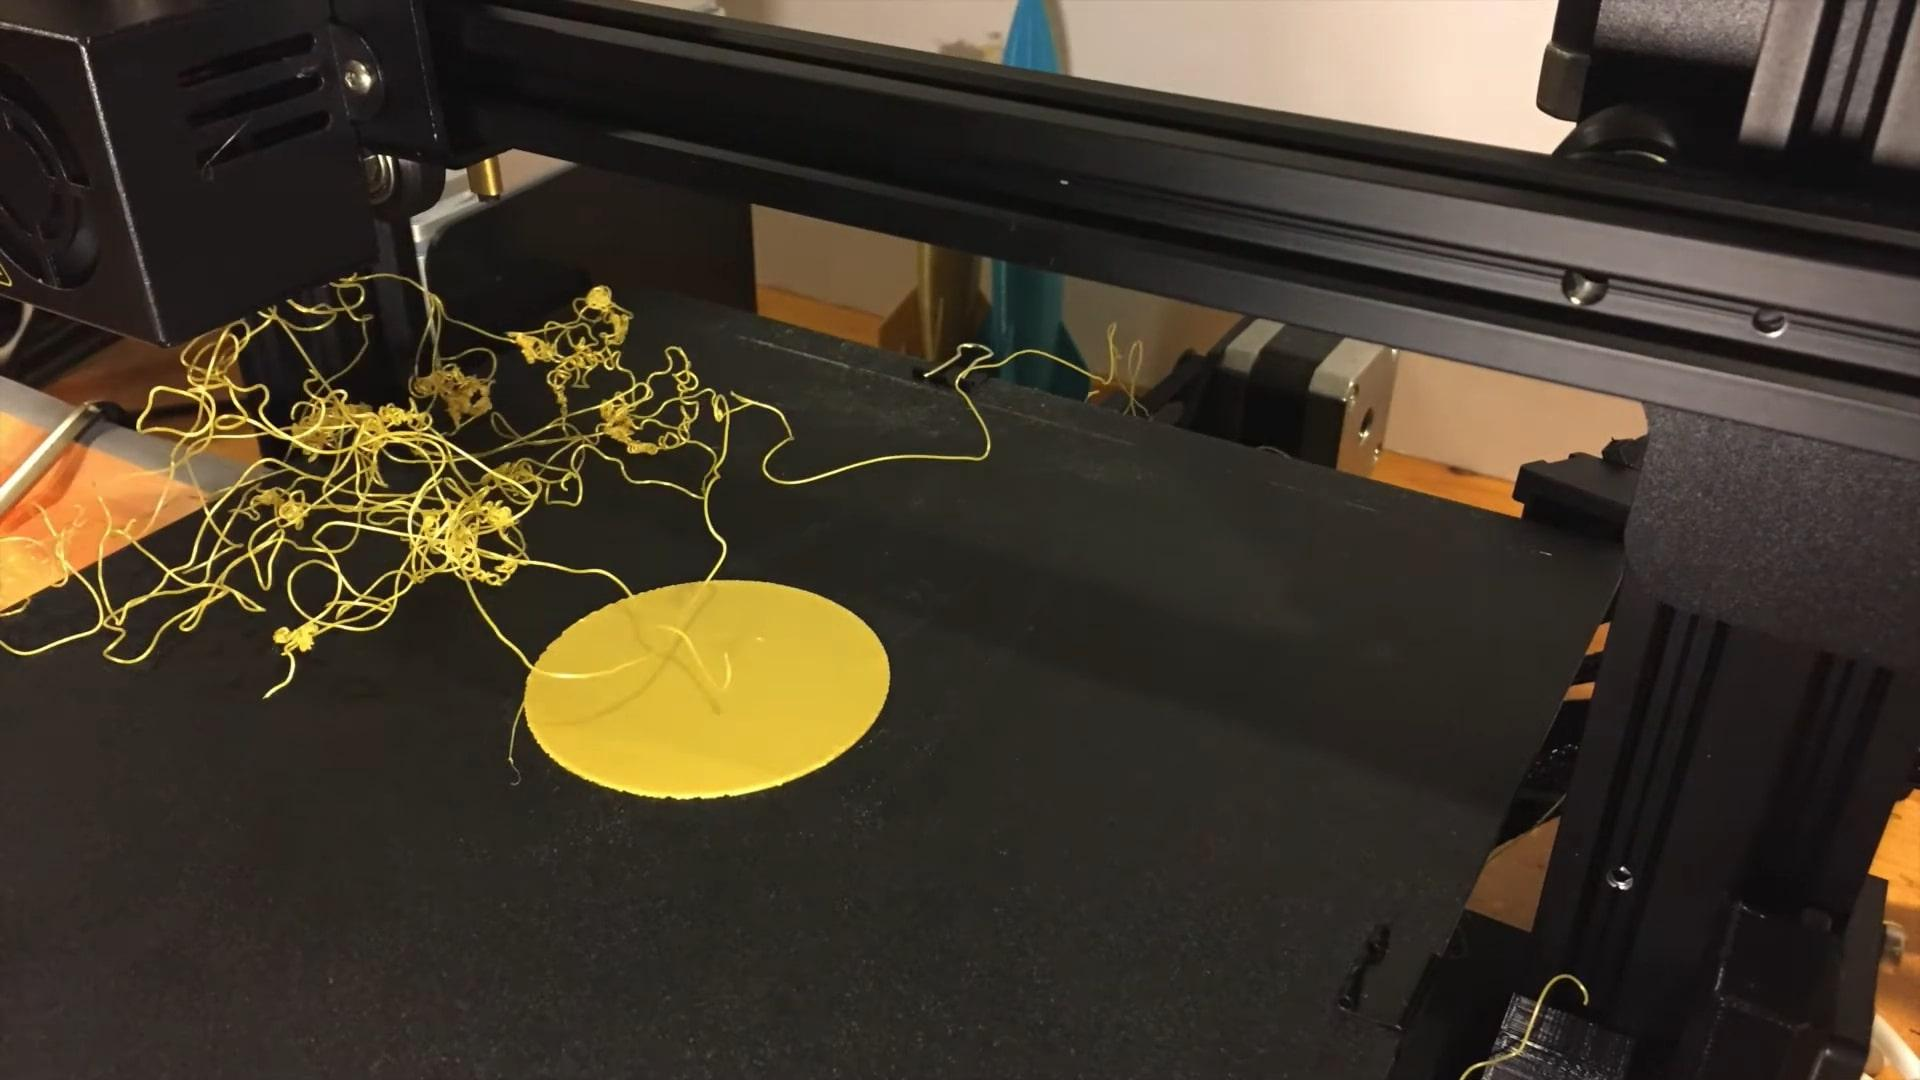Printing-Artifact: (24, 204, 742, 696)
